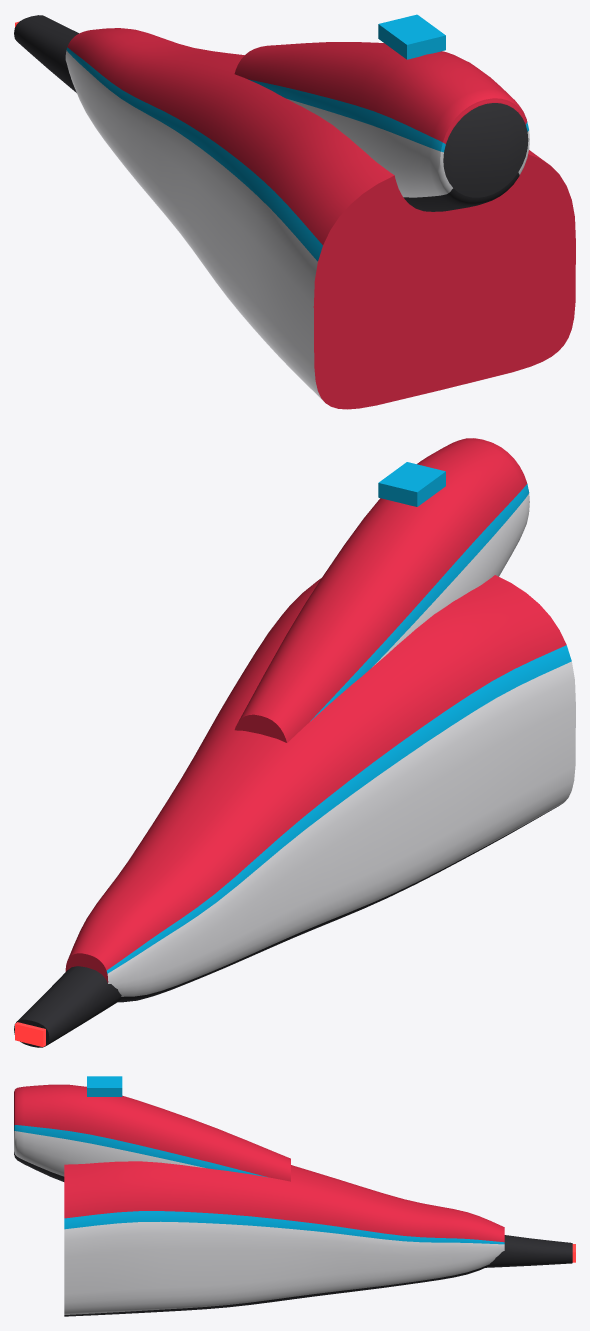
The model's file is standard.glb.
The picture shows the model from 3 angles, top to bottom: view 1: azimuth 30°, elevation 25°; view 2: azimuth 150°, elevation 25°; view 3: azimuth 270°, elevation 25°; orthographic projection. The views are drawn at different scales.
Visible parts, largest first — view 1: EngineCover_standard; view 2: EngineCover_standard; view 3: EngineCover_standard.
Boxes of the visible parts, box(x1,y1,x2,y2) form: EngineCover_standard: box(14, 14, 575, 409); EngineCover_standard: box(14, 438, 575, 1047); EngineCover_standard: box(14, 1076, 575, 1316).
Size of the model in its own units: 0.74 by 0.9064 by 2.23.
